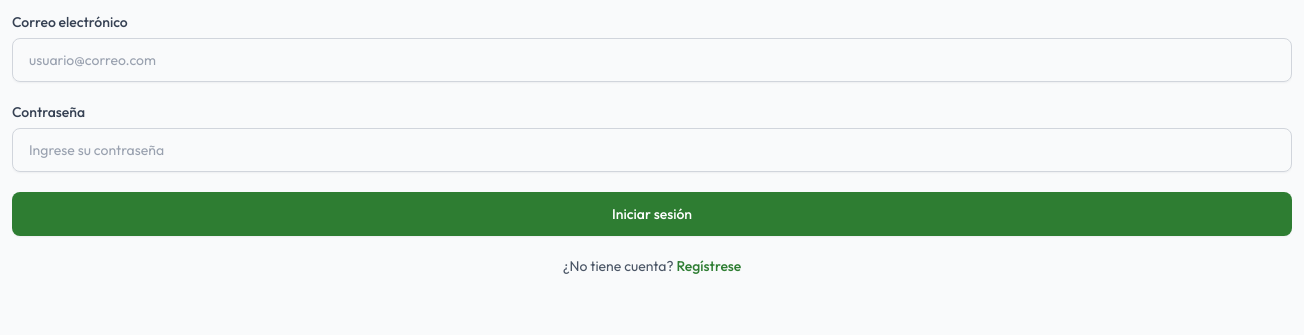
LoginForm › RTL-01 muestra los mensajes de campos obligatorios si se envía vacío
Click the button "Iniciar sesión": (652, 214) [12,192,1292,236]
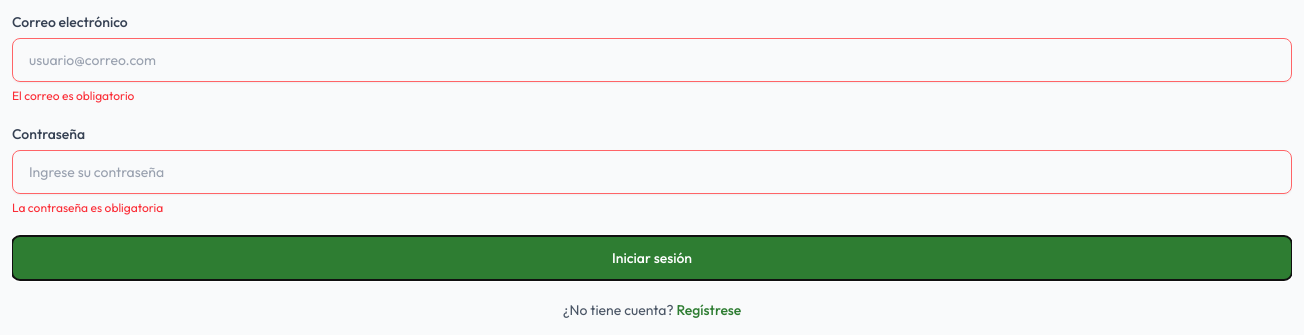
Result: the text "El correo es obligatorio" is shown at [12,88,134,103]
Result: the text "La contraseña es obligatoria" is shown at [12,200,163,215]
